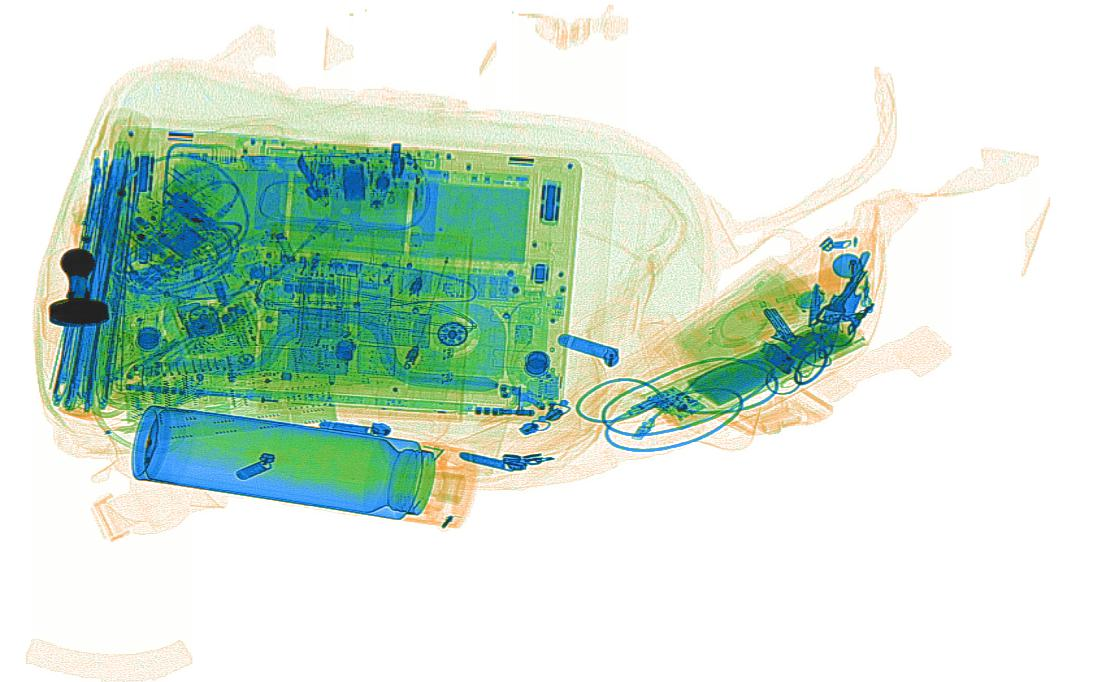plasticBottleWithaNozzle: (728, 262, 861, 328)
seal: (45, 247, 110, 329)
